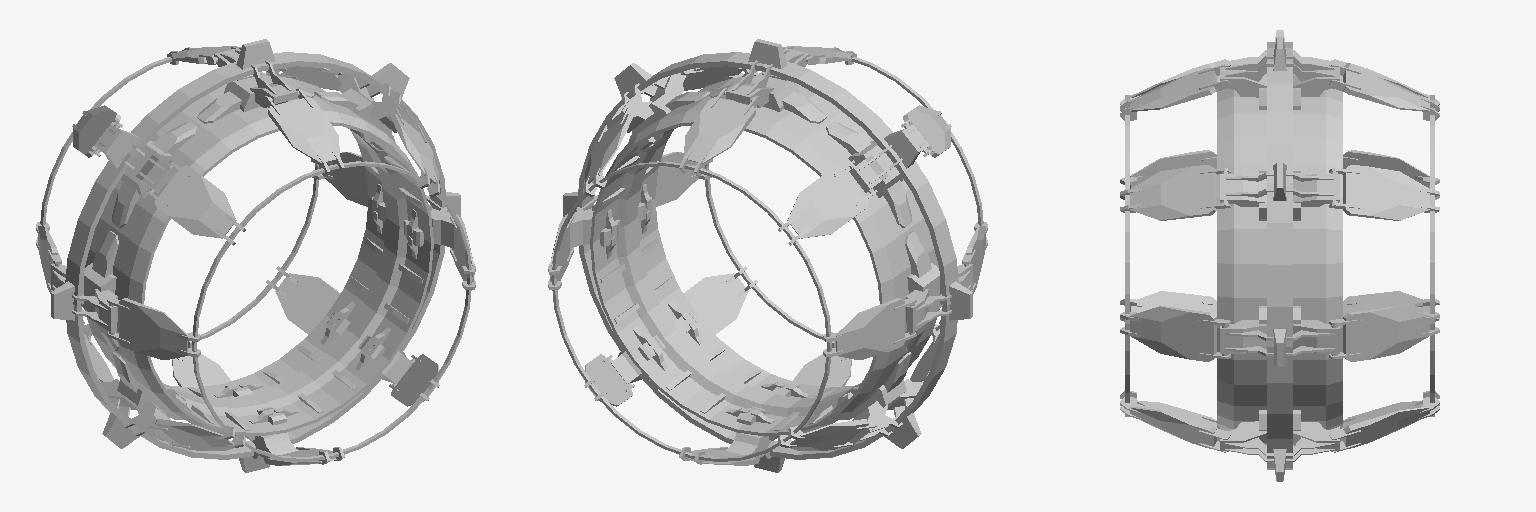
File: OBJ_TypeI.obj
The picture shows the model from 3 angles: view 1: azimuth 30°, elevation 25°; view 2: azimuth 150°, elevation 25°; view 3: azimuth 270°, elevation 25°; orthographic projection.
Visible parts, largest first — view 1: MSH_JumpgateTypeI; view 2: MSH_JumpgateTypeI; view 3: MSH_JumpgateTypeI.
Boxes of the visible parts, <box> form: MSH_JumpgateTypeI: <box>36,39,475,472</box>; MSH_JumpgateTypeI: <box>548,39,987,472</box>; MSH_JumpgateTypeI: <box>1120,30,1439,481</box>.
Size of the model in its own units: 2.7 by 2.7 by 1.85.